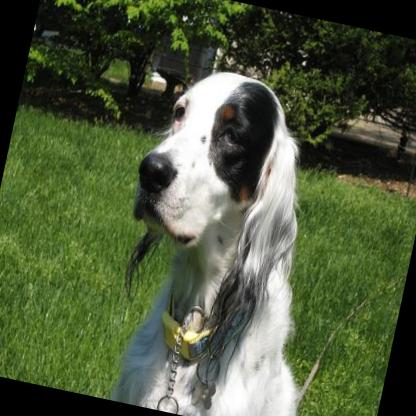English_setter: (85, 49, 369, 416)
